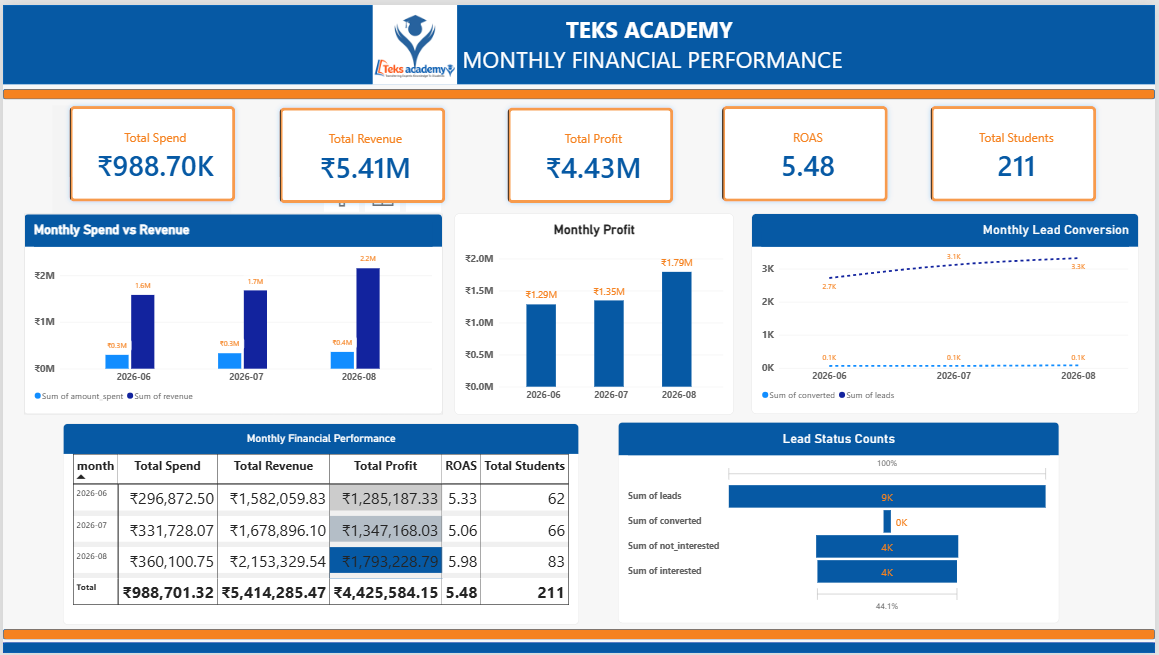

Layout of this report page (visuals, bound fields, positions):
{"tool":"powerbi","page":{"name":"Page 1","canvas":[1920,1080],"ordinal":0},"visuals":[{"type":"shape","box":[0,0,1920,132.2],"z":0},{"type":"image","box":[250,0,277.5,132.5],"z":1000},{"type":"textbox","box":[352.5,15,1460,102.5],"z":2000},{"type":"cardVisual","fields":{"Data":["teks_leads institute_leads.Total Leads"]},"box":[83.3,166.5,298.8,181.2],"z":3000},{"type":"clusteredColumnChart","title":"Monthly Profit","fields":{"Category":["teks_leads_3_months.month"],"Y":["Sum(teks_leads_3_months.profit)"]},"box":[747.5,347.5,465,335],"z":4000},{"type":"lineChart","title":"Monthly Lead Conversion","fields":{"Category":["teks_leads_3_months.month"],"Y":["Sum(teks_leads_3_months.converted)","Sum(teks_leads_3_months.leads)"]},"box":[1247.5,347.5,592.5,335],"z":5000},{"type":"lineClusteredColumnComboChart","title":"Monthly Spend vs Revenue","fields":{"Category":["teks_leads_3_months.month"],"Y":["Sum(teks_leads_3_months.amount_spent)","Sum(teks_leads_3_months.revenue)"]},"box":[35,347.5,697.5,335],"z":6000},{"type":"shape","box":[0,140.2,1919.9,17.3],"z":7000},{"type":"cardVisual","fields":{"Data":["teks_leads_3_months.Total Spend"]},"box":[100,157.5,298.8,181.2],"z":8000},{"type":"cardVisual","fields":{"Data":["teks_leads_3_months.Total Revenue"]},"box":[487.5,150,298.8,181.2],"z":9000},{"type":"cardVisual","fields":{"Data":["teks_leads_3_months.ROAS"]},"box":[1190,150,298.8,181.2],"z":10000},{"type":"cardVisual","fields":{"Data":["teks_leads_3_months.Total Students"]},"box":[1540,157.5,298.8,181.2],"z":11000},{"type":"cardVisual","fields":{"Data":["teks_leads_3_months.Total Profit"]},"box":[830,150,298.8,181.2],"z":12000},{"type":"pivotTable","title":"Monthly Financial Performance","fields":{"Rows":["teks_leads_3_months.month"],"Values":["teks_leads_3_months.Total Spend","teks_leads_3_months.Total Revenue","teks_leads_3_months.Total Profit","teks_leads_3_months.ROAS","teks_leads_3_months.Total Students"]},"box":[135,710,825,335],"z":13000},{"type":"funnel","title":"Lead Status Counts","fields":{"Y":["Sum(teks_leads_3_months.leads)","Sum(teks_leads_3_months.converted)","Sum(teks_leads_3_months.not_interested)","Sum(teks_leads_3_months.interested)"]},"box":[1025,710,735,335],"z":14000}]}

Visuals, with their boxes in screenshot pixels (x1, y1, x2, y2), scaled from the page's 1920x1080 canvas onto the 1159x655 screenshot:
shape: locate(0, 0, 1158, 80)
image: locate(151, 0, 318, 80)
textbox: locate(213, 9, 1094, 71)
cardVisual - teks_leads institute_leads.Total Leads: locate(50, 101, 231, 211)
"Monthly Profit" clusteredColumnChart: locate(451, 211, 732, 414)
"Monthly Lead Conversion" lineChart: locate(753, 211, 1111, 414)
"Monthly Spend vs Revenue" lineClusteredColumnComboChart: locate(21, 211, 442, 414)
shape: locate(0, 85, 1158, 96)
cardVisual - teks_leads_3_months.Total Spend: locate(60, 96, 241, 205)
cardVisual - teks_leads_3_months.Total Revenue: locate(294, 91, 475, 201)
cardVisual - teks_leads_3_months.ROAS: locate(718, 91, 899, 201)
cardVisual - teks_leads_3_months.Total Students: locate(930, 96, 1110, 205)
cardVisual - teks_leads_3_months.Total Profit: locate(501, 91, 681, 201)
"Monthly Financial Performance" pivotTable: locate(81, 431, 580, 634)
"Lead Status Counts" funnel: locate(619, 431, 1062, 634)
